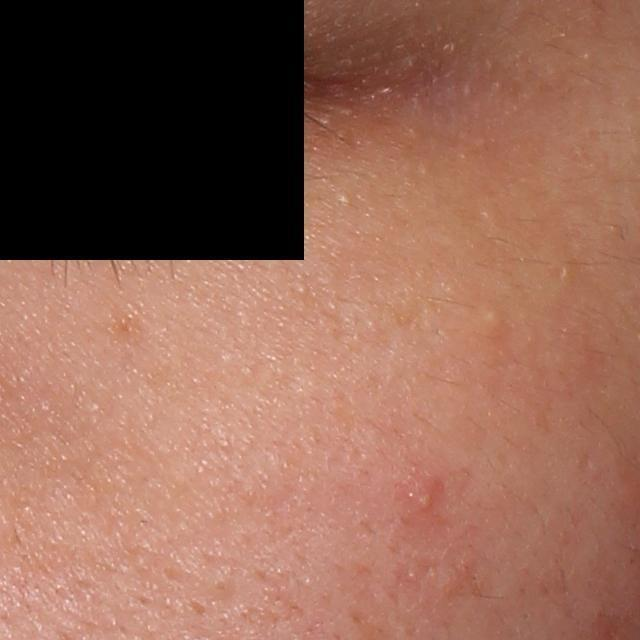comedo: (482, 308, 500, 328)
melasma: (96, 309, 148, 352)
other: (336, 192, 353, 207)
pustule: (400, 478, 443, 527)
